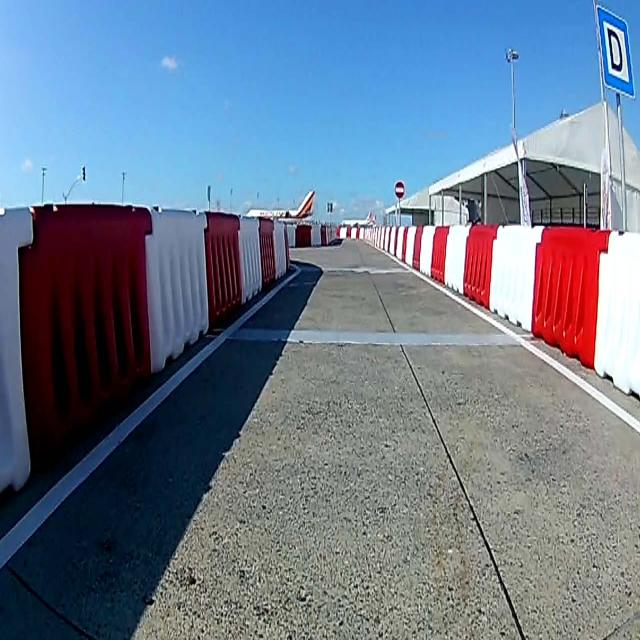durak: (596, 5, 634, 97)
girisyok: (394, 180, 404, 200)
